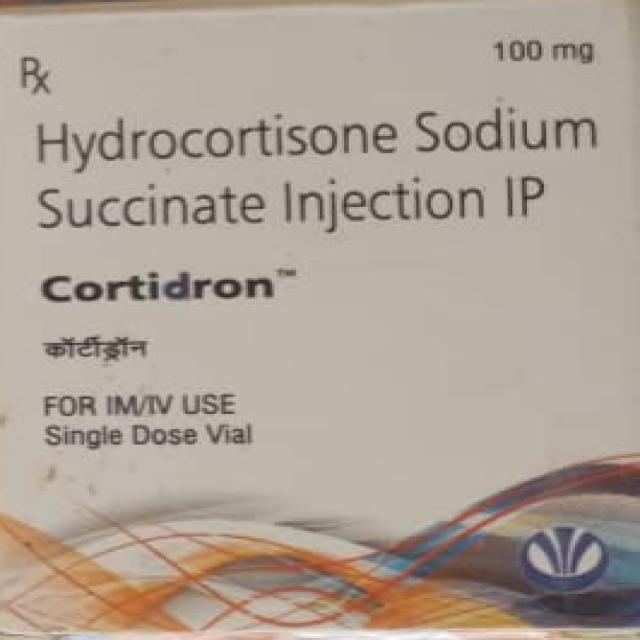drug-name: (41, 260, 296, 315)
